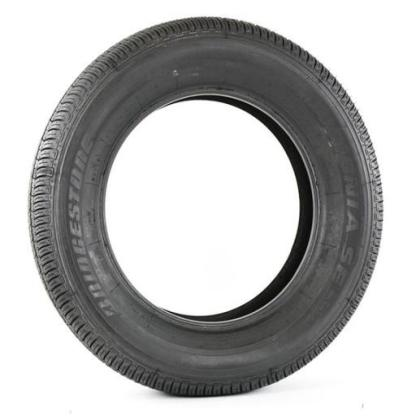Tire: (27, 15, 388, 400)
